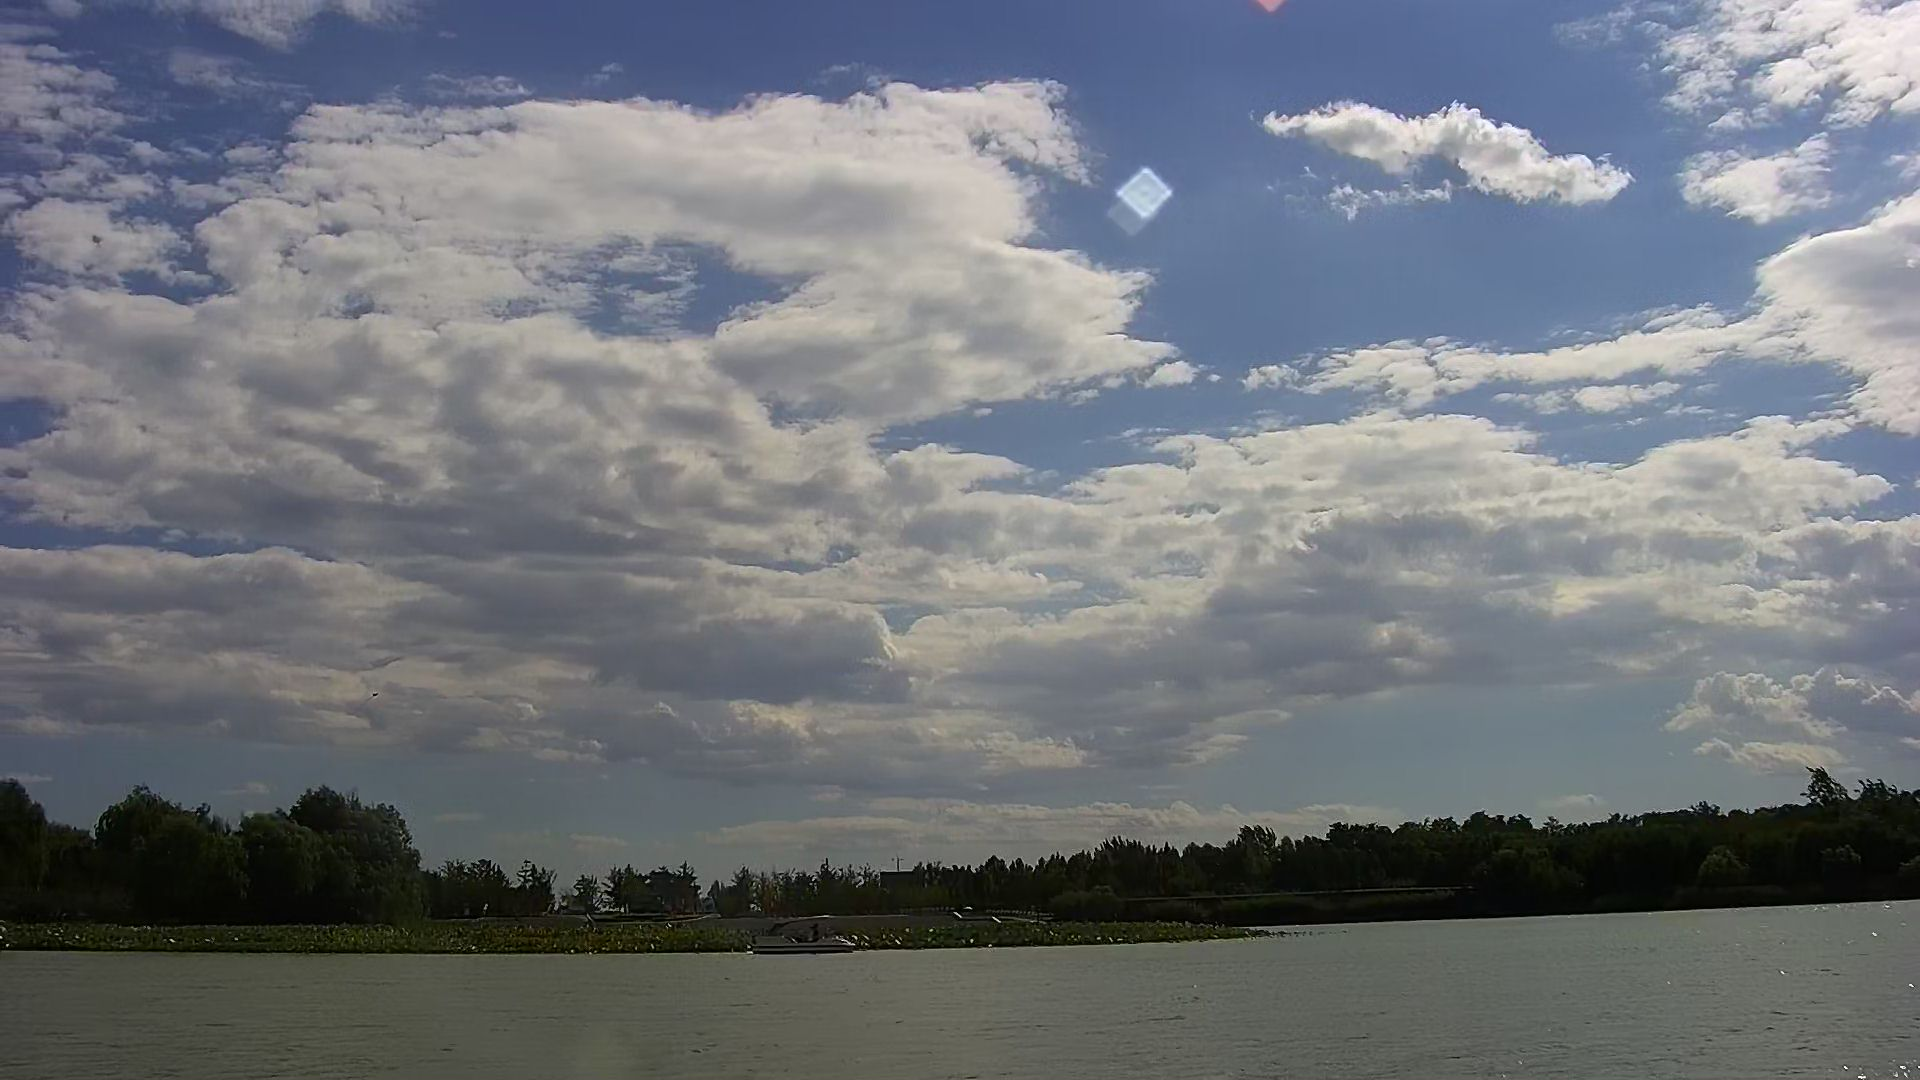boat: (750, 909, 857, 961)
